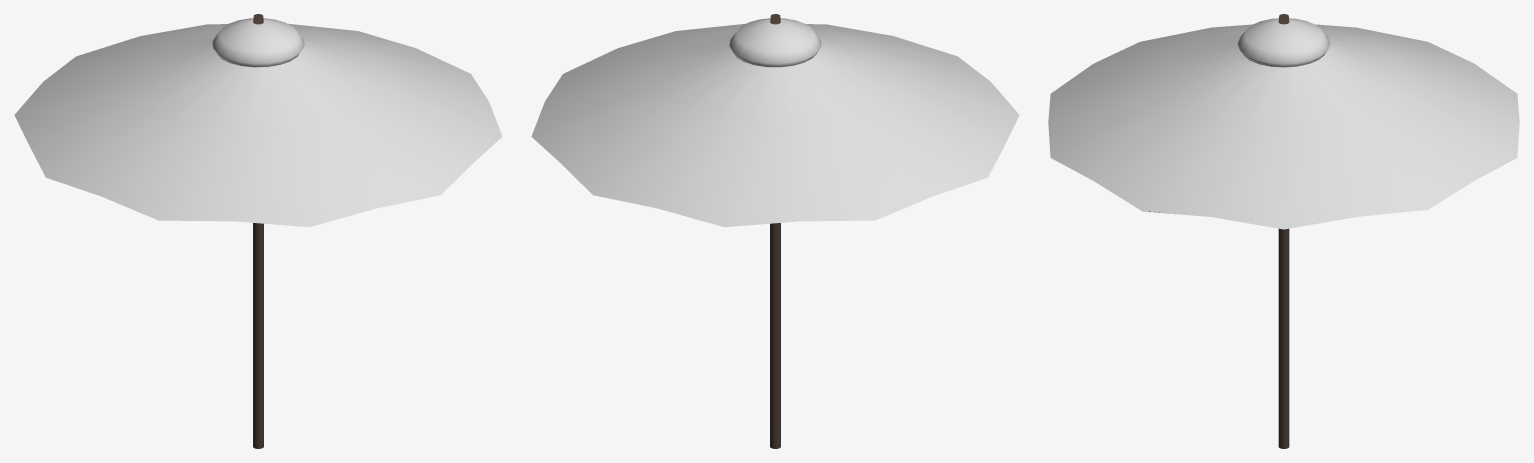
Rendered from Ombrellone.fbx.
3 renders of one model, left to right at view 1: azimuth 30°, elevation 25°; view 2: azimuth 150°, elevation 25°; view 3: azimuth 270°, elevation 25°, orthographic.
Visible parts, largest first — view 1: pCylinder2, pCylinder1; view 2: pCylinder2, pCylinder1; view 3: pCylinder2, pCylinder1.
Boxes of the visible parts, x1=… form: pCylinder2: x1=14, y1=18, x2=502, y2=227; pCylinder1: x1=253, y1=14, x2=263, y2=448; pCylinder2: x1=531, y1=18, x2=1019, y2=227; pCylinder1: x1=770, y1=14, x2=780, y2=448; pCylinder2: x1=1048, y1=18, x2=1519, y2=229; pCylinder1: x1=1278, y1=14, x2=1289, y2=448.
Size of the model in its own units: 13.55 by 13.11 by 13.01.
